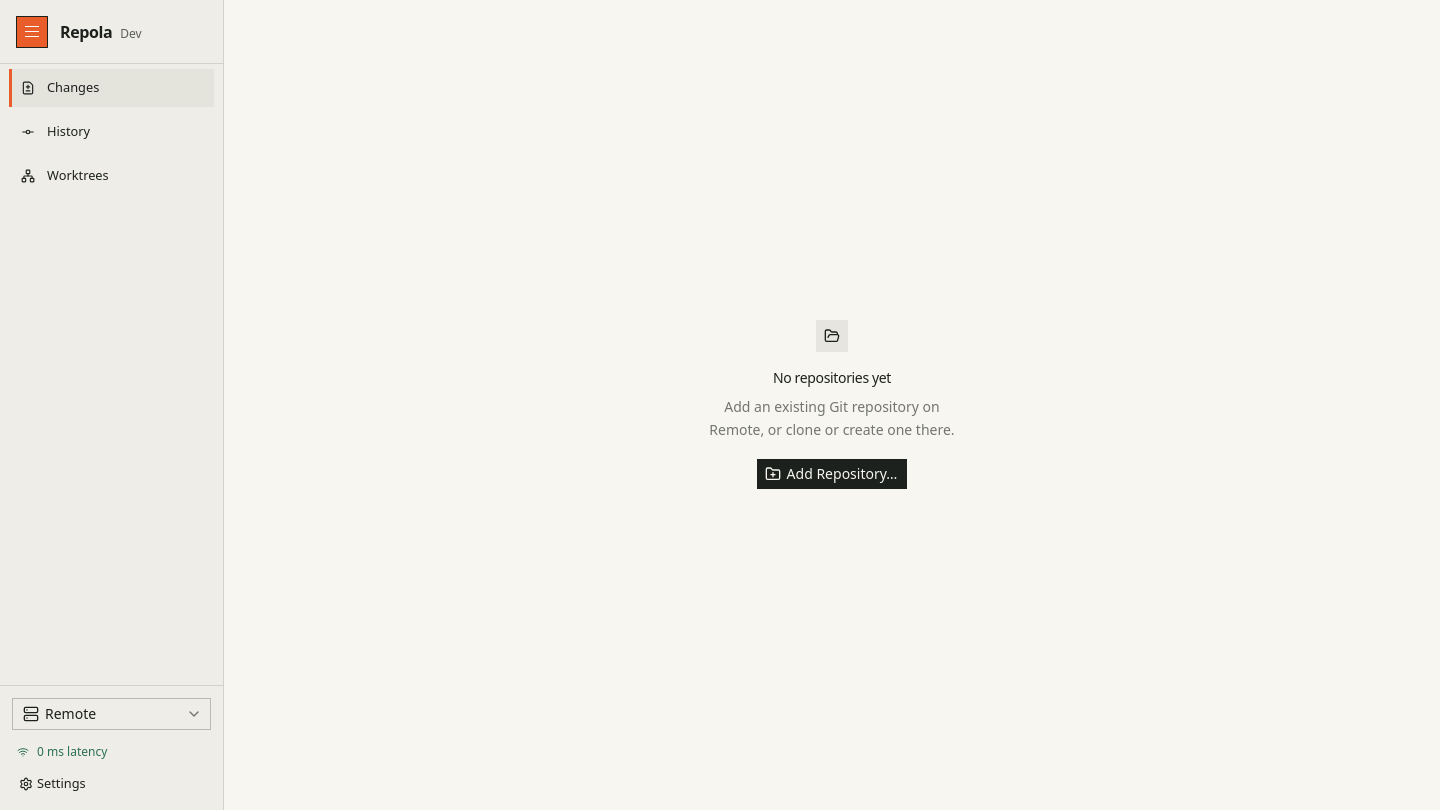
repository drop entry points › never enables local file drops for a remote machine
Expected: the text "No repositories yet" is shown, [773,368,891,388]
What coordinates should you click on to do the following:
click the button "Add Repository…"
I would click on:
 (832, 474)
Its box is [756,458,908,490].
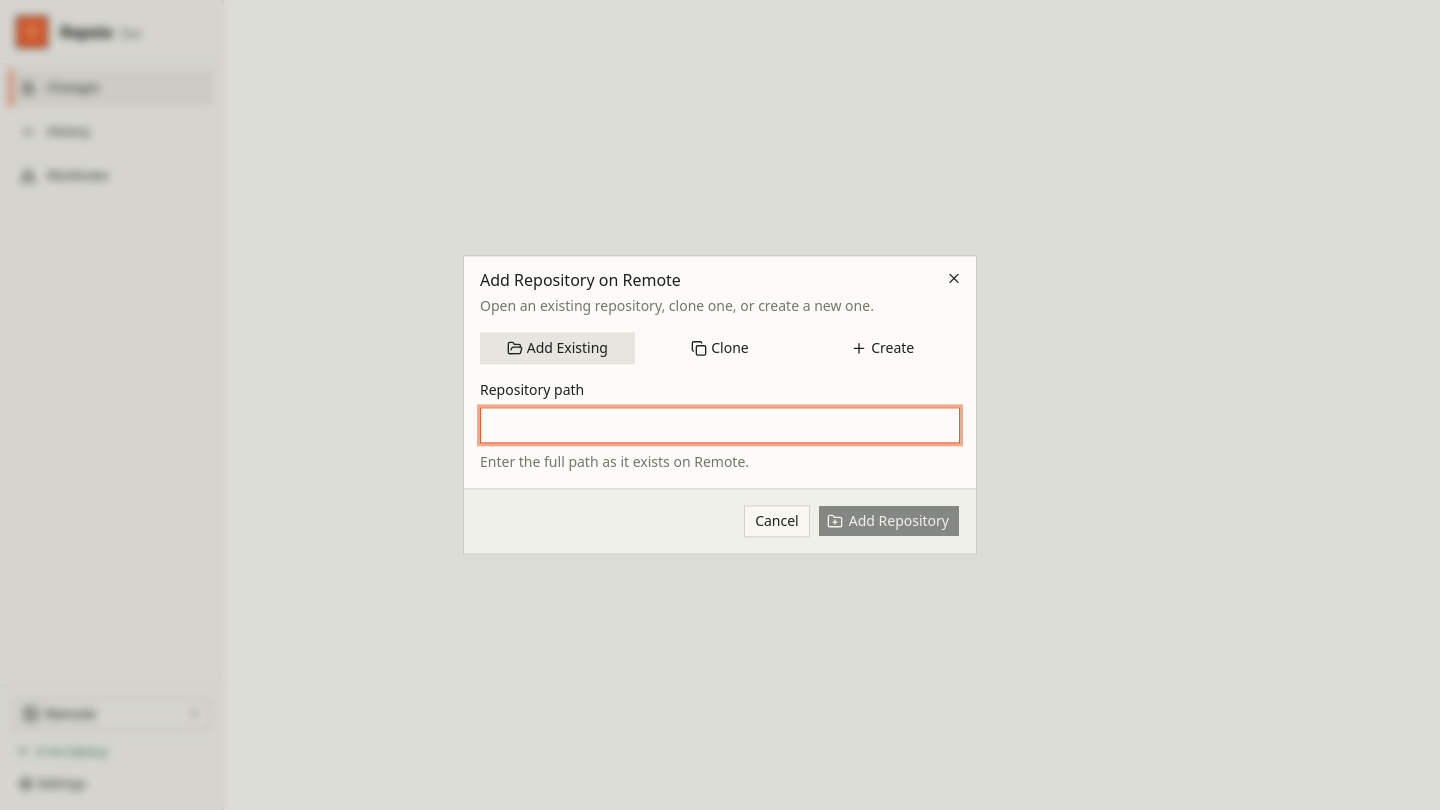
Expected: the heading "Add Repository on Remote" is shown, [480,269,681,291]
Expected: the field labelled "Repository path" is shown, [480,408,960,444]
